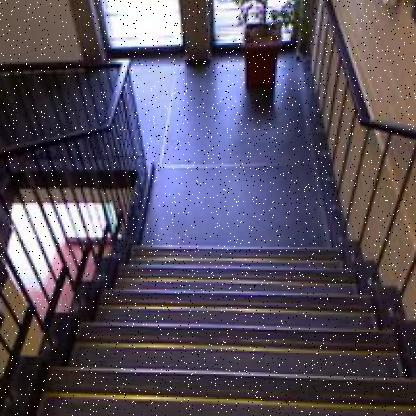stair_down: (60, 308, 391, 416)
